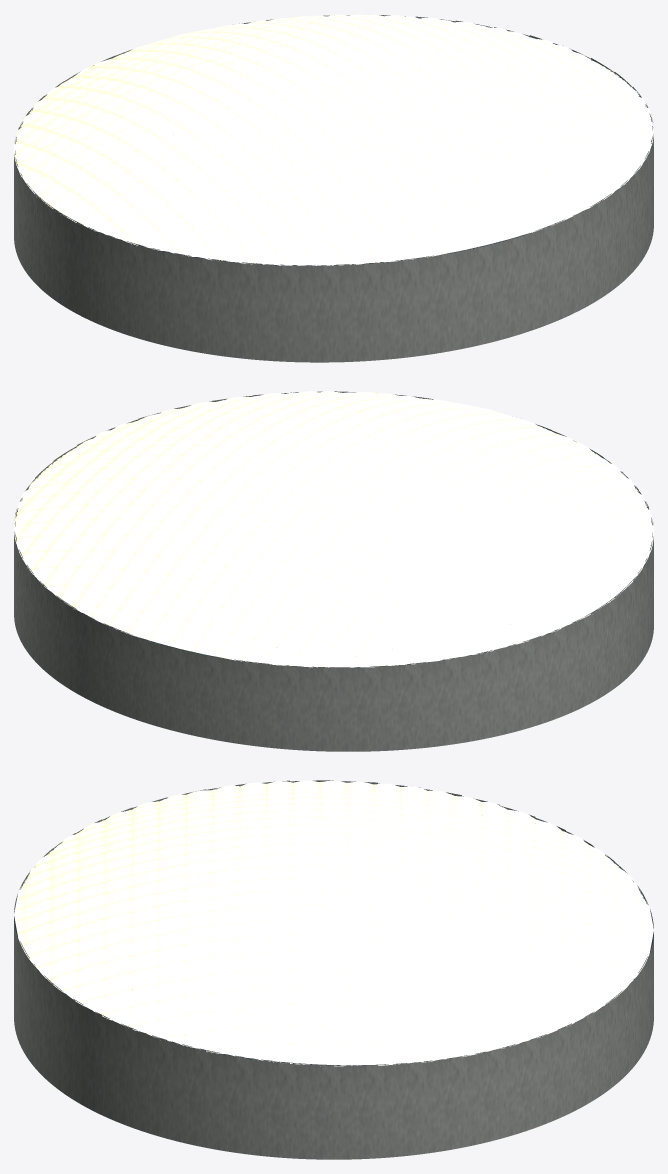
The model's file is tokyo-dome-real.glb.
3 renders of one model, top to bottom at view 1: azimuth 30°, elevation 25°; view 2: azimuth 150°, elevation 25°; view 3: azimuth 270°, elevation 25°, orthographic. The views are drawn at different scales.
Visible parts, largest first — view 1: Roof, Stands, Catwalk; view 2: Roof, Stands, Catwalk; view 3: Roof, Stands, Catwalk.
Part boxes in pixels (left/top/right/bottom): Roof: left=14, top=14, right=653, bottom=265; Stands: left=14, top=15, right=653, bottom=362; Catwalk: left=15, top=15, right=653, bottom=265; Roof: left=14, top=391, right=653, bottom=667; Stands: left=14, top=391, right=653, bottom=751; Catwalk: left=15, top=392, right=652, bottom=667; Roof: left=14, top=780, right=653, bottom=1067; Stands: left=14, top=780, right=653, bottom=1159; Catwalk: left=14, top=780, right=653, bottom=1065.
Size of the model in its own units: 236 by 61.69 by 224.
Materials: 36 (24 with a texture image).
